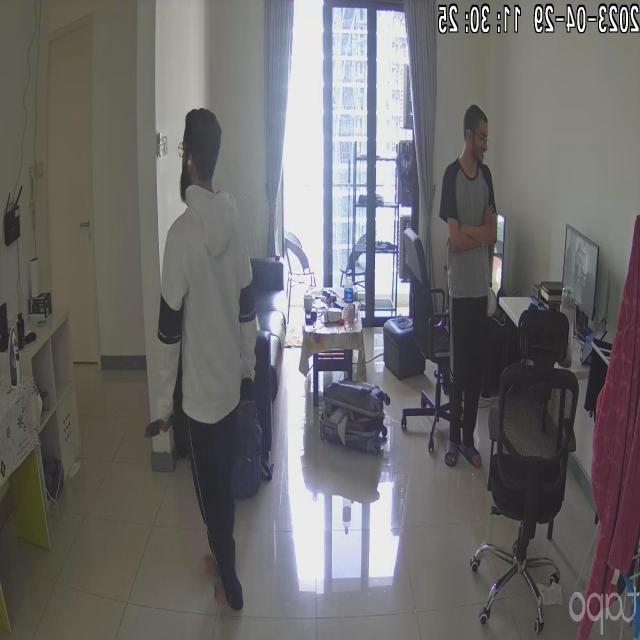Knife: (134, 410, 178, 444)
